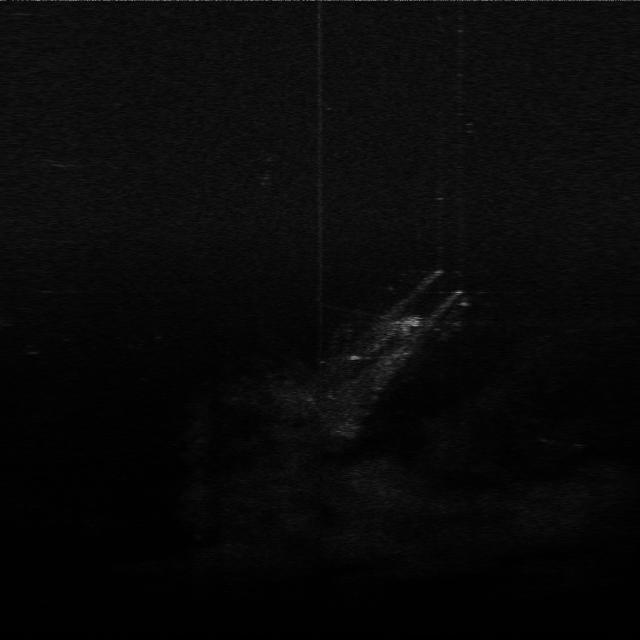rov: (390, 312, 430, 334)
